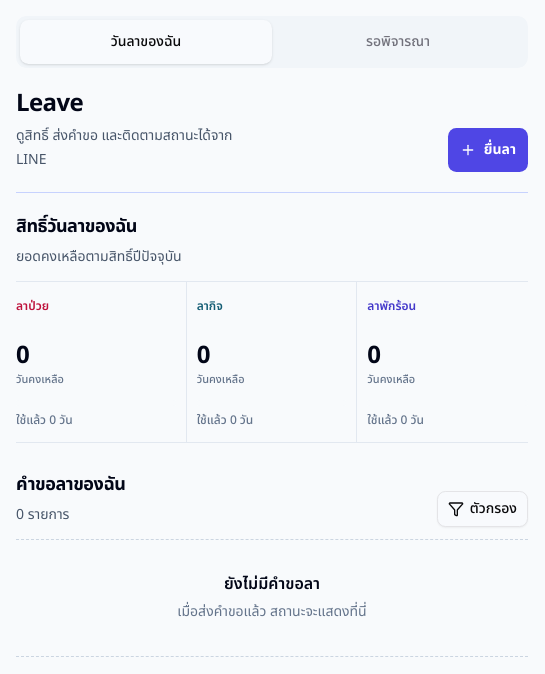
it: LIFF Leave app orchestration › keeps employee Leave usable and localizes an approval loading failure
Check: the heading "Leave" is shown, box [16,86,83,122]
Check: the heading "สิทธิ์วันลาของฉัน" is shown, box [16,213,137,240]
Press the mouse on the tab "รอพิจารณา" at (398, 42), box [272,20,524,64]
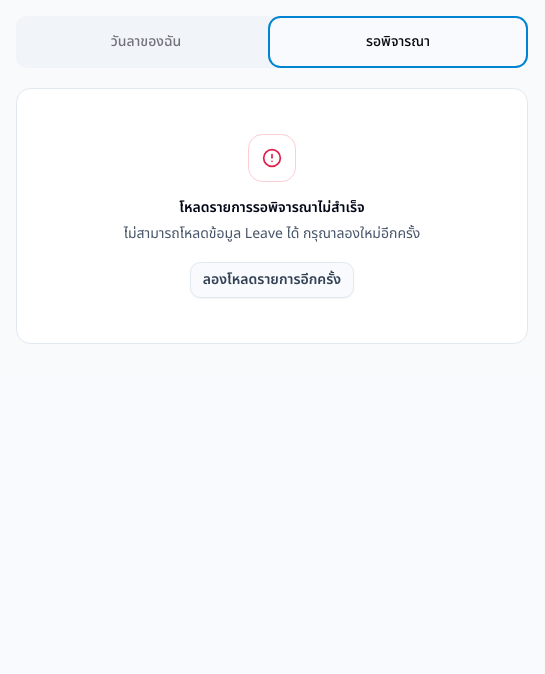
Check: the heading "โหลดรายการรอพิจารณาไม่สำเร็จ" is shown, box [179,198,365,218]
Check: the button "ลองโหลดรายการอีกครั้ง" is shown, box [190,262,354,298]
